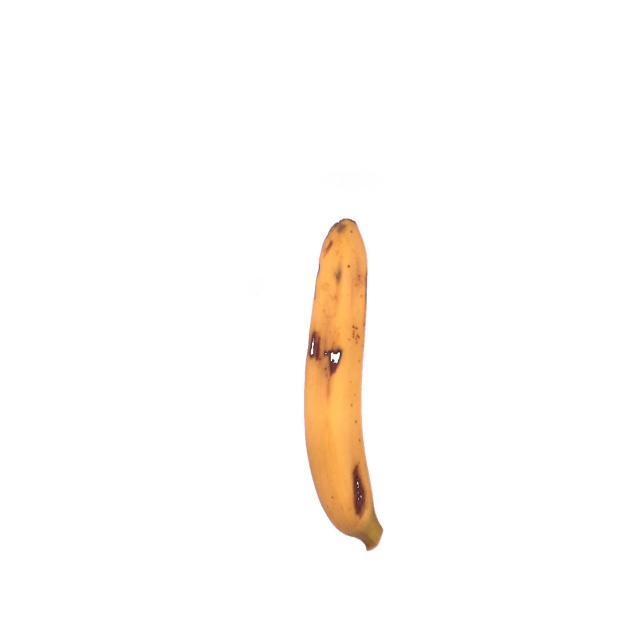banana: (304, 213, 384, 552)
